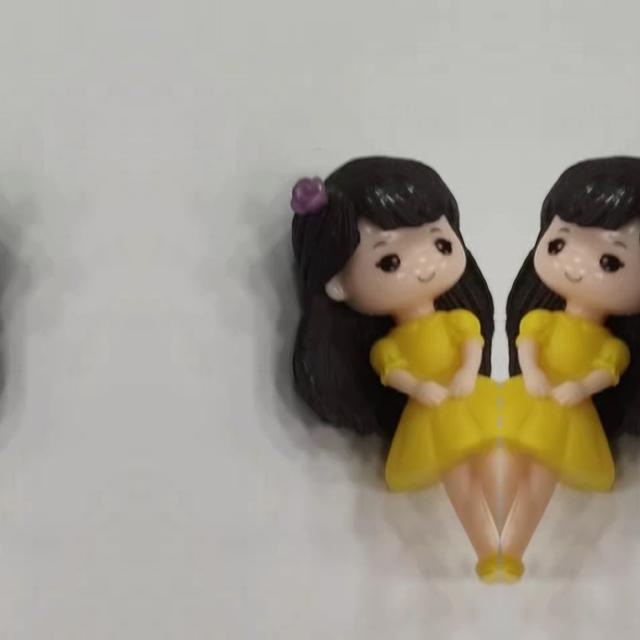woman dress: (365, 281, 500, 640), (499, 281, 634, 640)
woman head: (272, 153, 484, 319), (516, 153, 640, 319), (0, 153, 8, 319)
